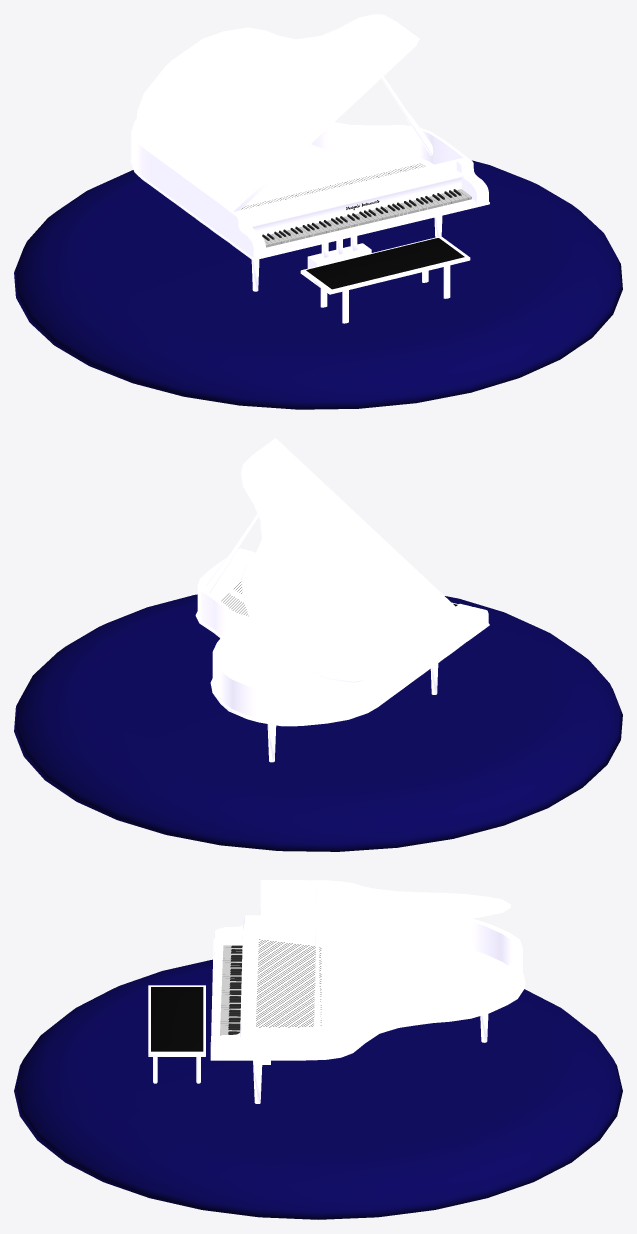
The model's file is piano.glb.
3 views of the same model, one above another, from view 1: azimuth 30°, elevation 25°; view 2: azimuth 150°, elevation 25°; view 3: azimuth 270°, elevation 25° (orthographic).
Visible parts, largest first — view 1: Piano; view 2: Piano; view 3: Piano.
Part boxes in pixels (<box>): Piano: <box>14,14,622,409</box>; Piano: <box>14,438,622,851</box>; Piano: <box>14,880,622,1219</box>.
Size of the model in its own units: 2.5 by 1.11 by 2.5.
